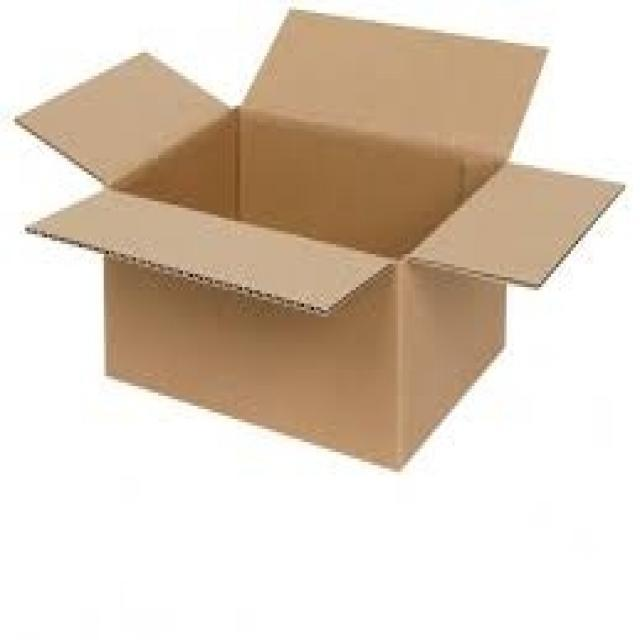cardboard paper: (16, 9, 621, 466)
